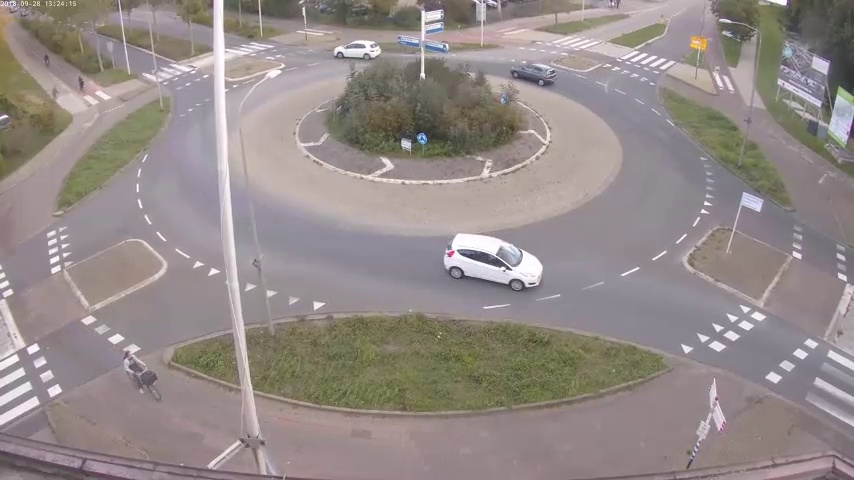bicycle: (117, 347, 160, 401), (41, 52, 55, 75), (76, 77, 87, 93)
car: (444, 233, 544, 288), (508, 60, 559, 86), (331, 39, 381, 58)
